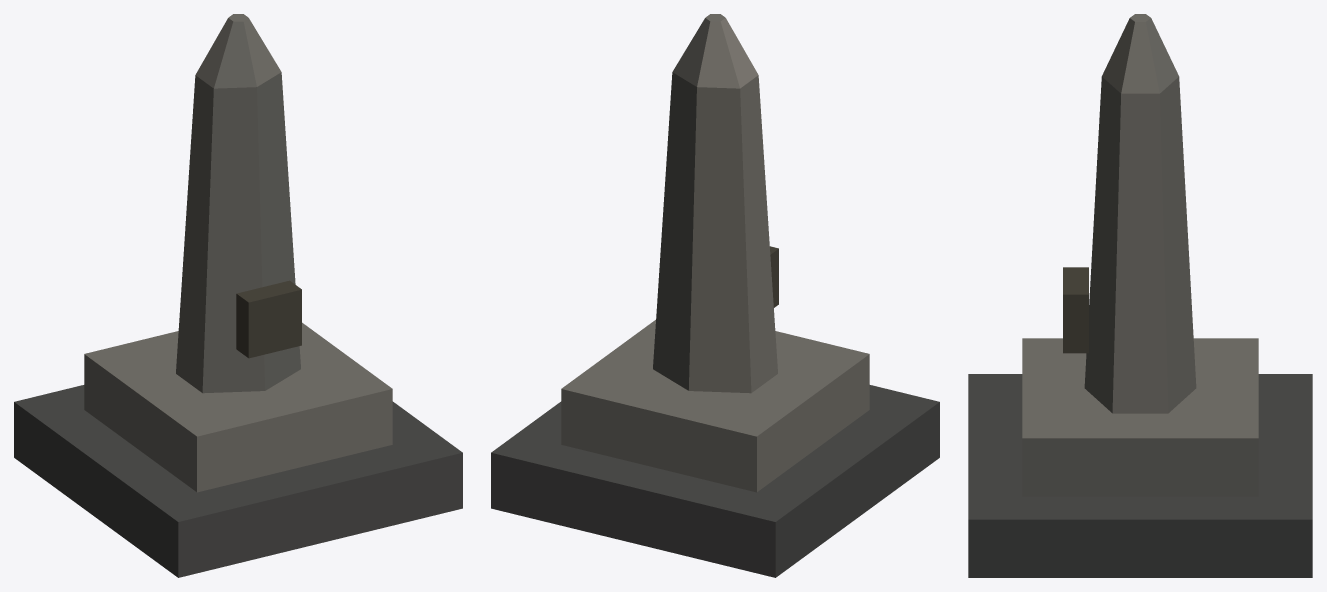
Rendered from walk_prop_shrine.glb.
The picture shows the model from 3 angles, left to right: view 1: azimuth 30°, elevation 25°; view 2: azimuth 150°, elevation 25°; view 3: azimuth 270°, elevation 25°; orthographic projection. The views are drawn at different scales.
Parts seen in each view (by area): view 1: walk_prop_shrine; view 2: walk_prop_shrine; view 3: walk_prop_shrine.
Boxes of the visible parts, bbox=[...] form: walk_prop_shrine: bbox=[14, 14, 462, 577]; walk_prop_shrine: bbox=[491, 14, 939, 577]; walk_prop_shrine: bbox=[968, 14, 1312, 577].
Bounding box in the file's own units: 1.6 × 2.5 × 1.6.
Materials: 1 (1 with a texture image).
